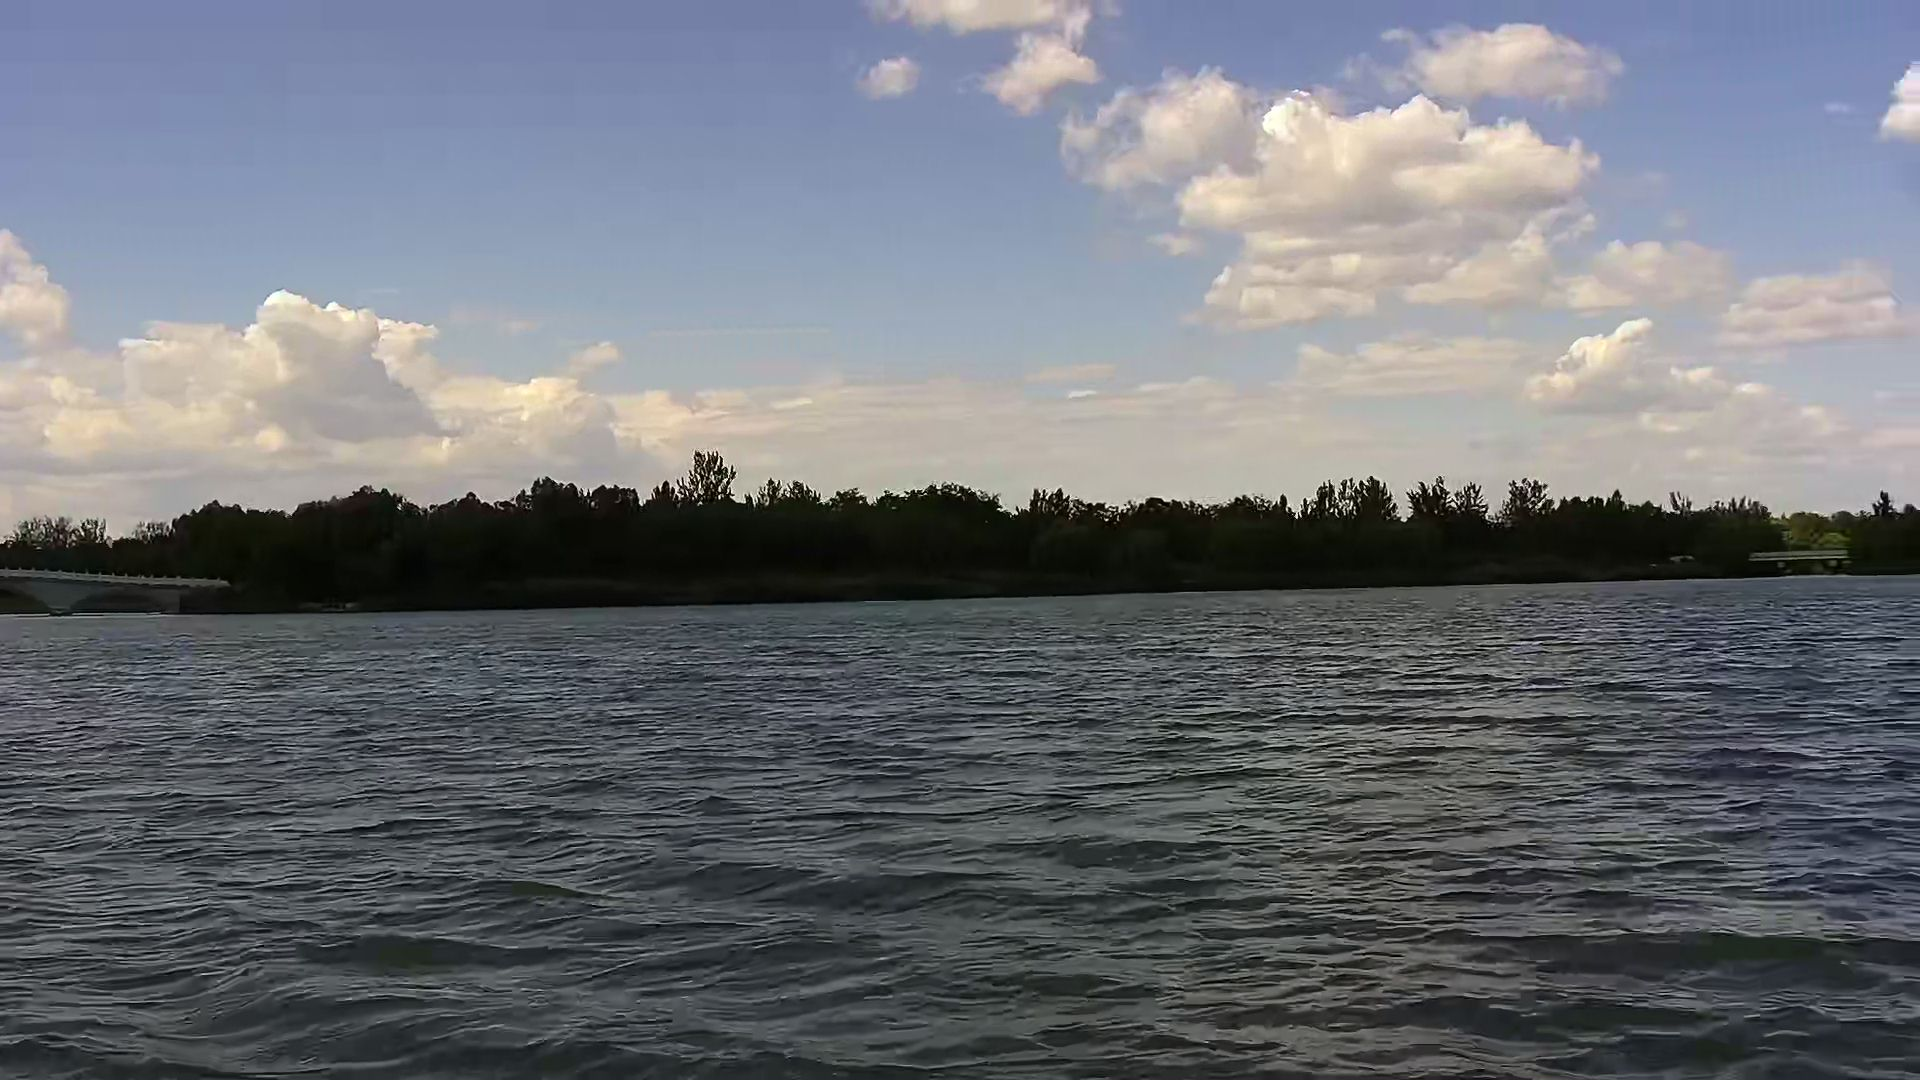bridge: (1, 566, 225, 622), (1745, 545, 1850, 582)
